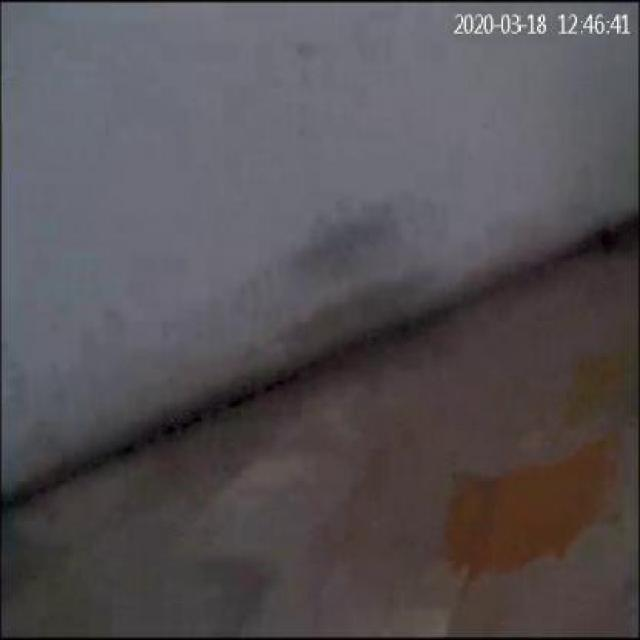spill: (434, 444, 618, 592)
